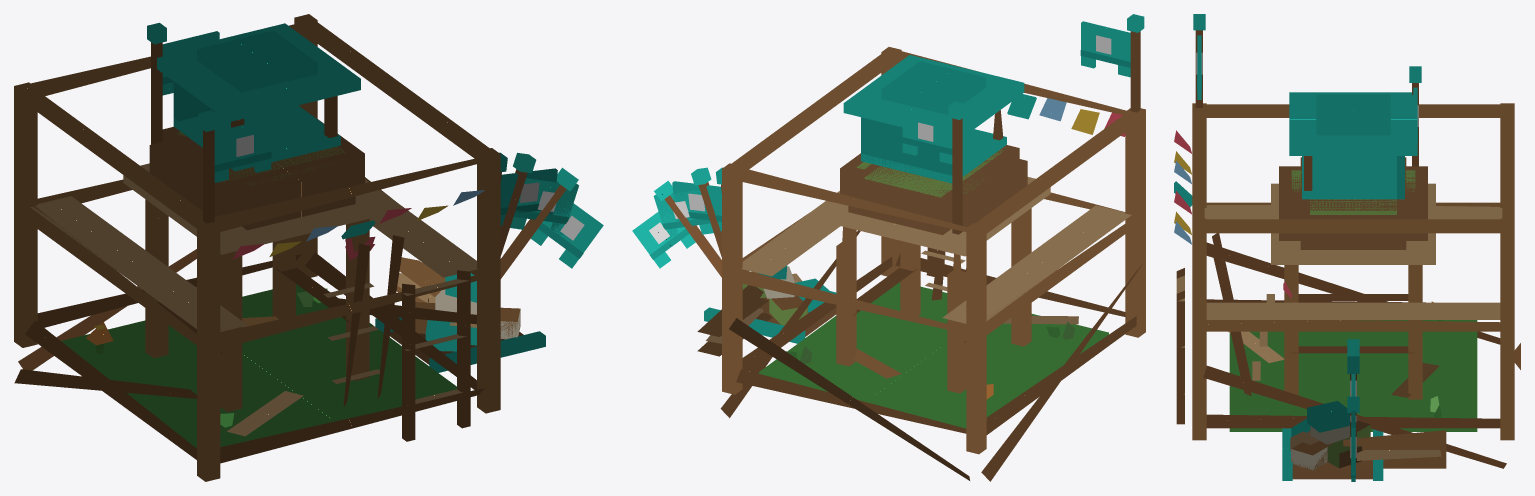
File: hummingbird-home_lod1.glb
The picture shows the model from 3 angles, left to right: view 1: azimuth 30°, elevation 25°; view 2: azimuth 150°, elevation 25°; view 3: azimuth 270°, elevation 25°; orthographic projection. The views are drawn at different scales.
Parts seen in each view (by area): view 1: scaffold-mesh, built-mesh, dismantle-50-mesh, dismantle-75-mesh, dismantle-25-mesh, scaffold-banner, dismantle-25-banner, dismantle-50-banner, flag-pole, scaffold-flag-pole, dismantle-75-banner, dismantle-25-flag-pole (+2 smaller); view 2: scaffold-mesh, built-mesh, dismantle-50-mesh, dismantle-75-mesh, scaffold-banner, dismantle-25-mesh, banner, dismantle-25-banner, flag-pole, dismantle-75-banner, dismantle-50-banner, scaffold-flag-pole (+2 smaller); view 3: scaffold-mesh, built-mesh, dismantle-50-mesh, dismantle-75-mesh, dismantle-25-mesh, scaffold-flag-pole, flag-pole.
Part boxes in pixels (x1,y1,x2,y2): scaffold-mesh: (14,14,500,481); built-mesh: (100,23,404,448); dismantle-50-mesh: (61,240,545,445); dismantle-75-mesh: (88,155,476,397); dismantle-25-mesh: (95,273,545,427); scaffold-banner: (214,118,271,182); dismantle-25-banner: (531,201,603,268); dismantle-50-banner: (510,178,578,234); flag-pole: (147,22,166,144); scaffold-flag-pole: (198,110,218,223); dismantle-75-banner: (500,168,557,225); dismantle-25-flag-pole: (500,167,578,278); scaffold-mesh: (697,47,1145,481); built-mesh: (759,55,1108,428); dismantle-50-mesh: (704,242,1108,422); dismantle-75-mesh: (704,209,1074,393); scaffold-banner: (1080,21,1130,77); dismantle-25-mesh: (742,265,1072,378); banner: (902,108,952,164); dismantle-25-banner: (632,205,695,268); flag-pole: (948,101,966,234); dismantle-75-banner: (672,181,721,231); dismantle-50-banner: (653,189,713,239); scaffold-flag-pole: (1127,14,1144,112); scaffold-mesh: (1174,103,1520,468); built-mesh: (1212,92,1441,417); dismantle-50-mesh: (1228,281,1477,479); dismantle-75-mesh: (1212,233,1476,480); dismantle-25-mesh: (1290,320,1439,478); scaffold-flag-pole: (1193,14,1205,107); flag-pole: (1409,66,1421,166).
Size of the model in its own units: 2.35 by 1.79 by 1.68.
